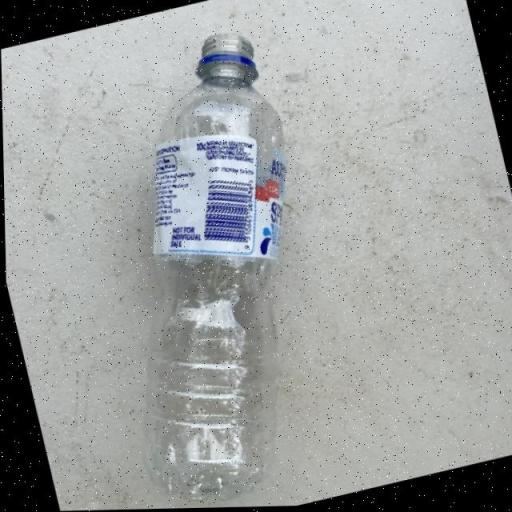plastic: (49, 22, 361, 511)
